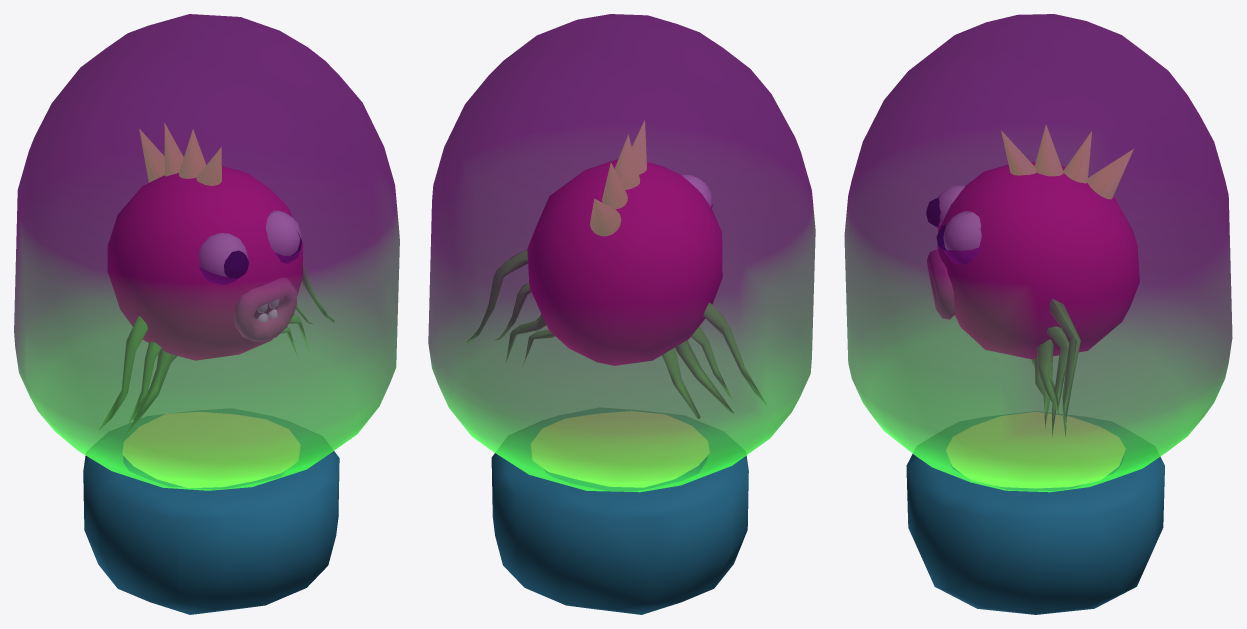
File: space_companion.glb
3 views of the same model, side by side, from view 1: azimuth 30°, elevation 25°; view 2: azimuth 150°, elevation 25°; view 3: azimuth 270°, elevation 25° (orthographic).
Parts seen in each view (by area): view 1: Sphere, Space_Companion, Cube.005, Cube.007; view 2: Sphere, Space_Companion, Cube.005, Cube.007; view 3: Sphere, Space_Companion, Cube.005, Cube.007.
Boxes of the visible parts, <box> form: Sphere: <box>14,14,399,490</box>; Space_Companion: <box>99,123,333,434</box>; Cube.005: <box>83,451,339,614</box>; Cube.007: <box>122,412,300,487</box>; Sphere: <box>428,14,815,492</box>; Space_Companion: <box>467,120,766,418</box>; Cube.005: <box>491,453,748,614</box>; Cube.007: <box>531,411,709,487</box>; Sphere: <box>844,14,1232,492</box>; Space_Companion: <box>926,125,1139,436</box>; Cube.005: <box>906,454,1164,614</box>; Cube.007: <box>946,412,1125,488</box>.
Size of what is drawn, in the model's own units: 2.28 by 3.64 by 2.28.
3 materials, 3 textured.
